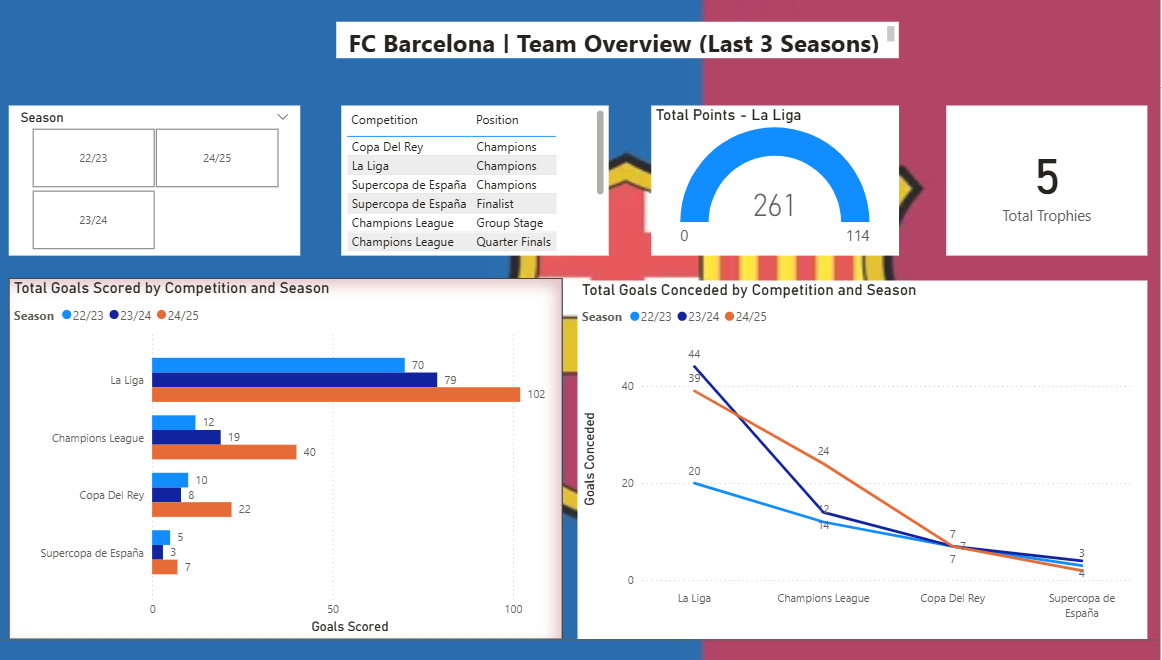

Layout of this report page (visuals, bound fields, positions):
{"tool":"powerbi","page":{"name":"OverView","canvas":[1280,720],"ordinal":0},"visuals":[{"type":"clusteredBarChart","title":"Total Goals Scored by Competition and Season","fields":{"Category":["Season Overview.Competition"],"Y":["Sum(Season Overview.Goals Scored)"],"Series":["Season Overview.Season"]},"box":[15.1,323.8,607.9,396.6],"z":0},{"type":"lineChart","title":"Total Goals Conceded by Competition and Season","fields":{"Category":["Season Overview.Competition"],"Series":["Season Overview.Season"],"Y":["Sum(Season Overview.Goals Conceded)"]},"box":[639.5,326.6,625.7,393.8],"z":1000},{"type":"card","fields":{"Values":["Sum(Season Overview.Total Trophies)"]},"box":[1044.3,134.5,220.9,164.7],"z":2000},{"type":"tableEx","fields":{"Values":["Season Overview.Competition","Season Overview.Position"]},"box":[380.1,134.5,293.7,164.7],"z":3000},{"type":"gauge","title":"Total Points - La Liga","fields":{"Y":["Sum(Season Overview.Points)"]},"box":[720.4,134.5,271.7,164.7],"z":4000},{"type":"slicer","fields":{"Values":["Season Overview.Season"]},"box":[15.1,134.5,319.7,164.7],"z":5000},{"type":"textbox","box":[374.6,42.5,617.5,39.8],"z":6000}]}

Visuals, with their boxes in screenshot pixels (x1, y1, x2, y2), scaled from the page's 1280x720 canvas onto the 1162x660 screenshot:
"Total Goals Scored by Competition and Season" clusteredBarChart: 14,297,566,659
"Total Goals Conceded by Competition and Season" lineChart: 581,299,1149,659
card - Sum(Season Overview.Total Trophies): 948,123,1149,274
tableEx - Season Overview.Competition x Season Overview.Position: 345,123,612,274
"Total Points - La Liga" gauge: 654,123,901,274
slicer - Season Overview.Season: 14,123,304,274
textbox: 340,39,901,75
